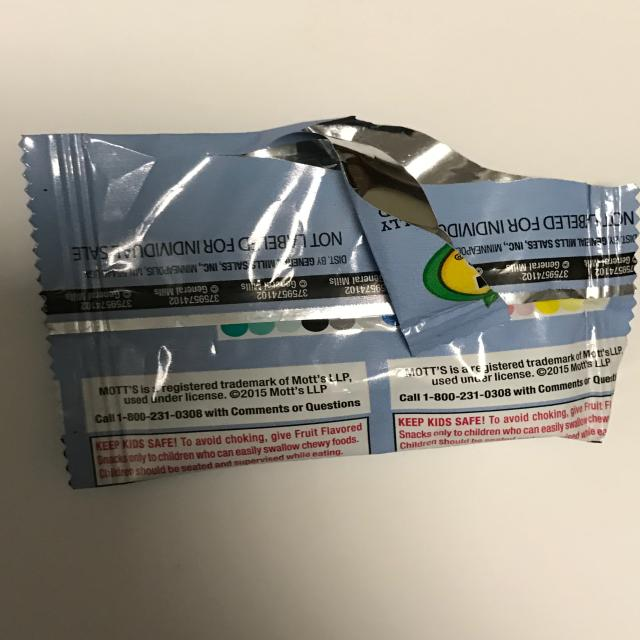trash: (18, 116, 640, 490)
